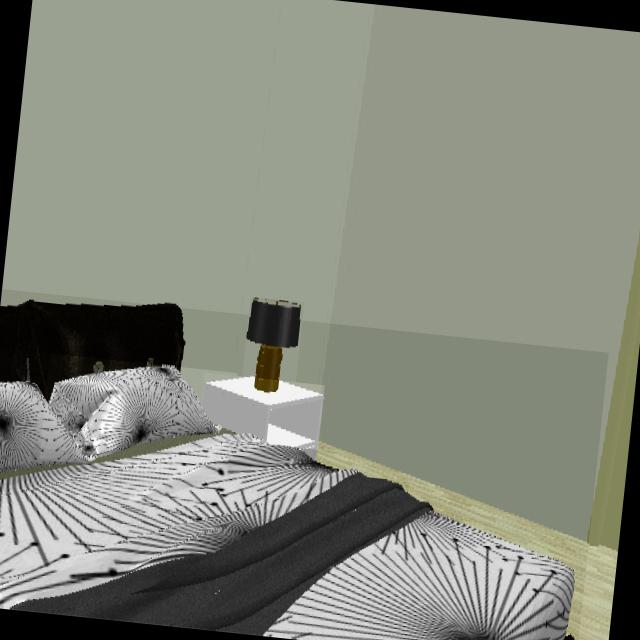bed: (0, 306, 576, 640)
lamp: (245, 298, 303, 398)
nighttable: (201, 377, 323, 448)
pillow: (0, 365, 211, 481), (44, 363, 230, 463)
